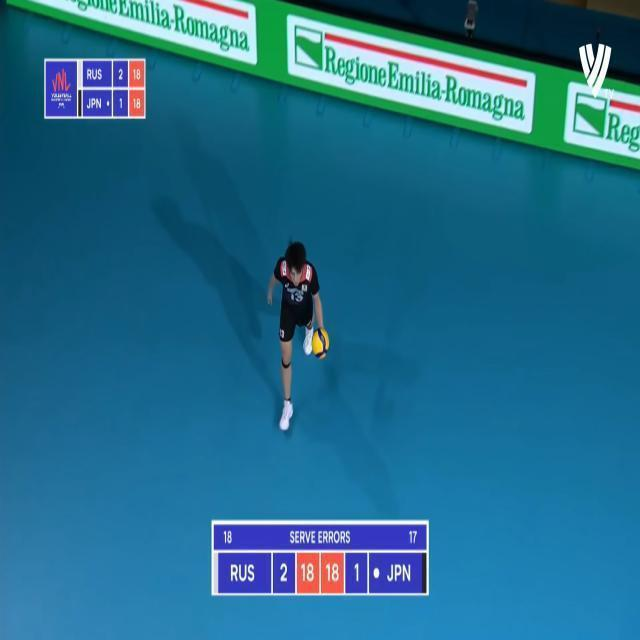volleyball: (312, 328, 330, 359)
